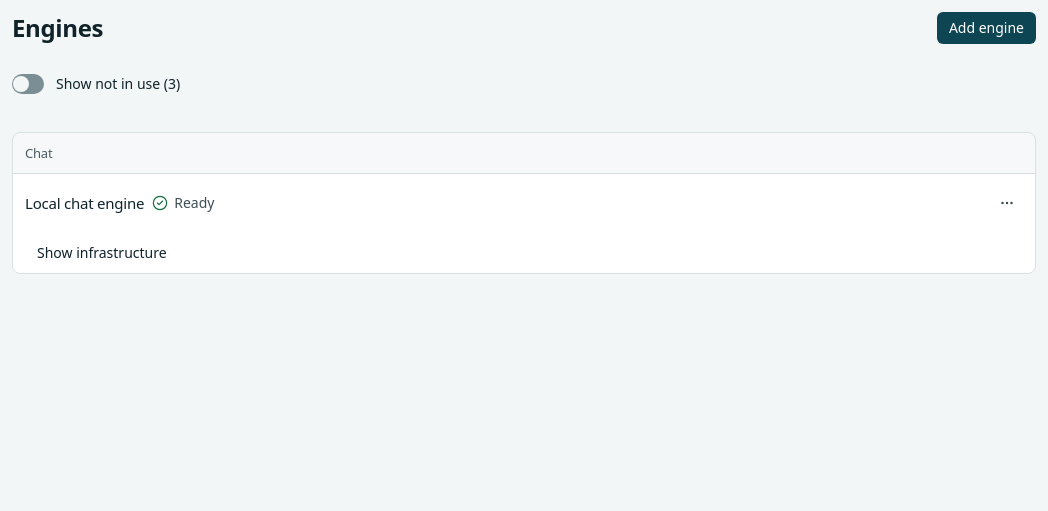
Test: says when a kept-off engine is checked, or that it waits for the owner's key
This screenshot has width=1048, height=511.
Check: the row "Local chat engine Ready" is shown, box x1=13 y1=173 x2=1035 y2=233
Click the switch named "Show not in use" at x=28, y=84, box x1=12 y1=74 x2=44 y2=94
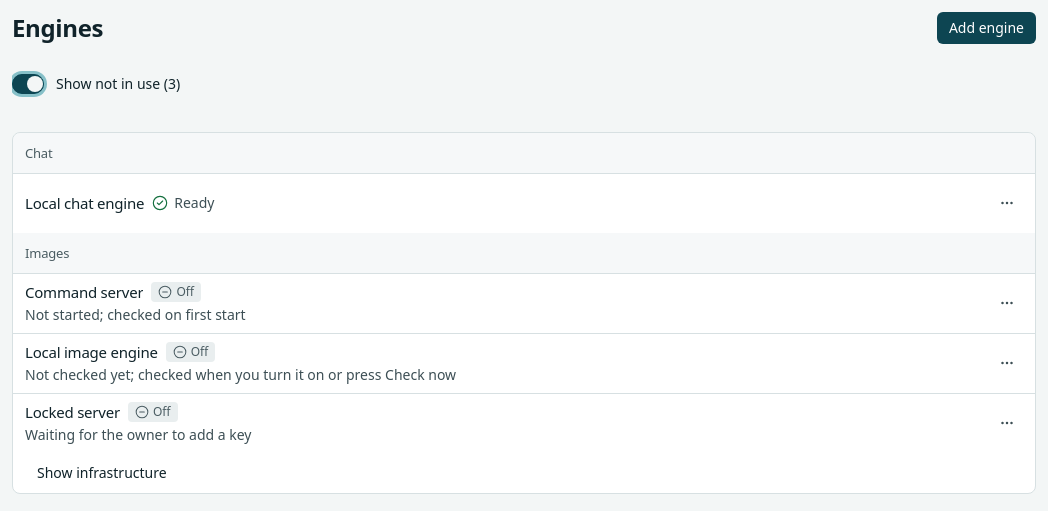
Check: the text "Not checked yet; checked when you turn it on or press Check now" is shown, box x1=25 y1=365 x2=456 y2=385
Check: the text "Waiting for the owner to add a key" is shown, box x1=25 y1=425 x2=252 y2=445
Check: the text "Not started; checked on first start" is shown, box x1=25 y1=305 x2=246 y2=325
